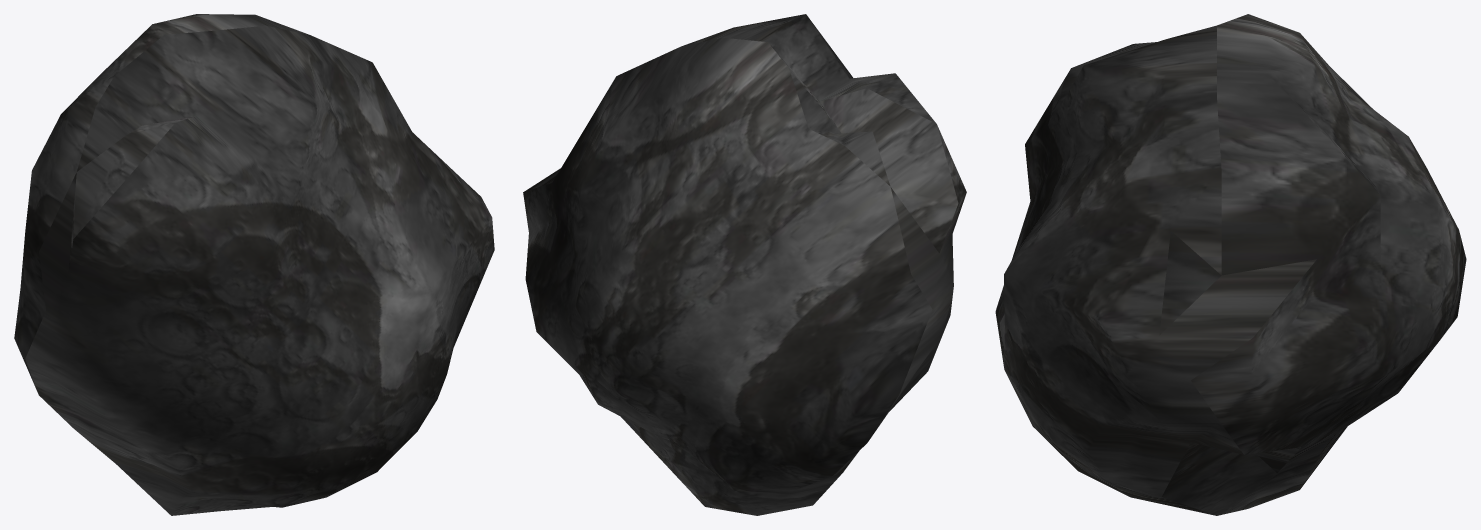
File: asteroid.FBX
3 views of the same model, side by side, from view 1: azimuth 30°, elevation 25°; view 2: azimuth 150°, elevation 25°; view 3: azimuth 270°, elevation 25° (orthographic). The views are drawn at different scales.
Parts seen in each view (by area): view 1: Asteroid; view 2: Asteroid; view 3: Asteroid.
Part boxes in pixels (bbox=[...]): Asteroid: bbox=[14, 14, 494, 515]; Asteroid: bbox=[523, 14, 966, 515]; Asteroid: bbox=[995, 14, 1466, 515].
Size of the model in its own units: 174 by 193 by 175.
Materials: 1 (1 with a texture image).
